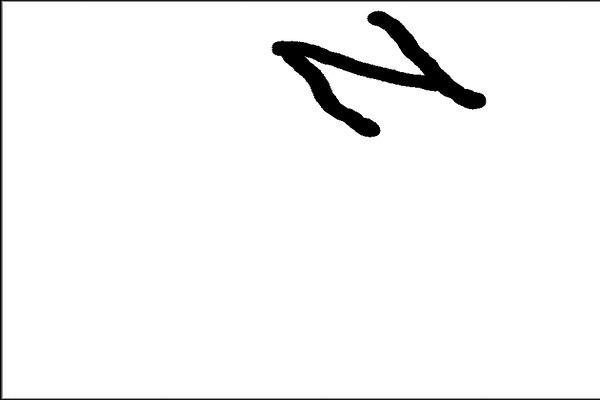N: (265, 5, 492, 142)
